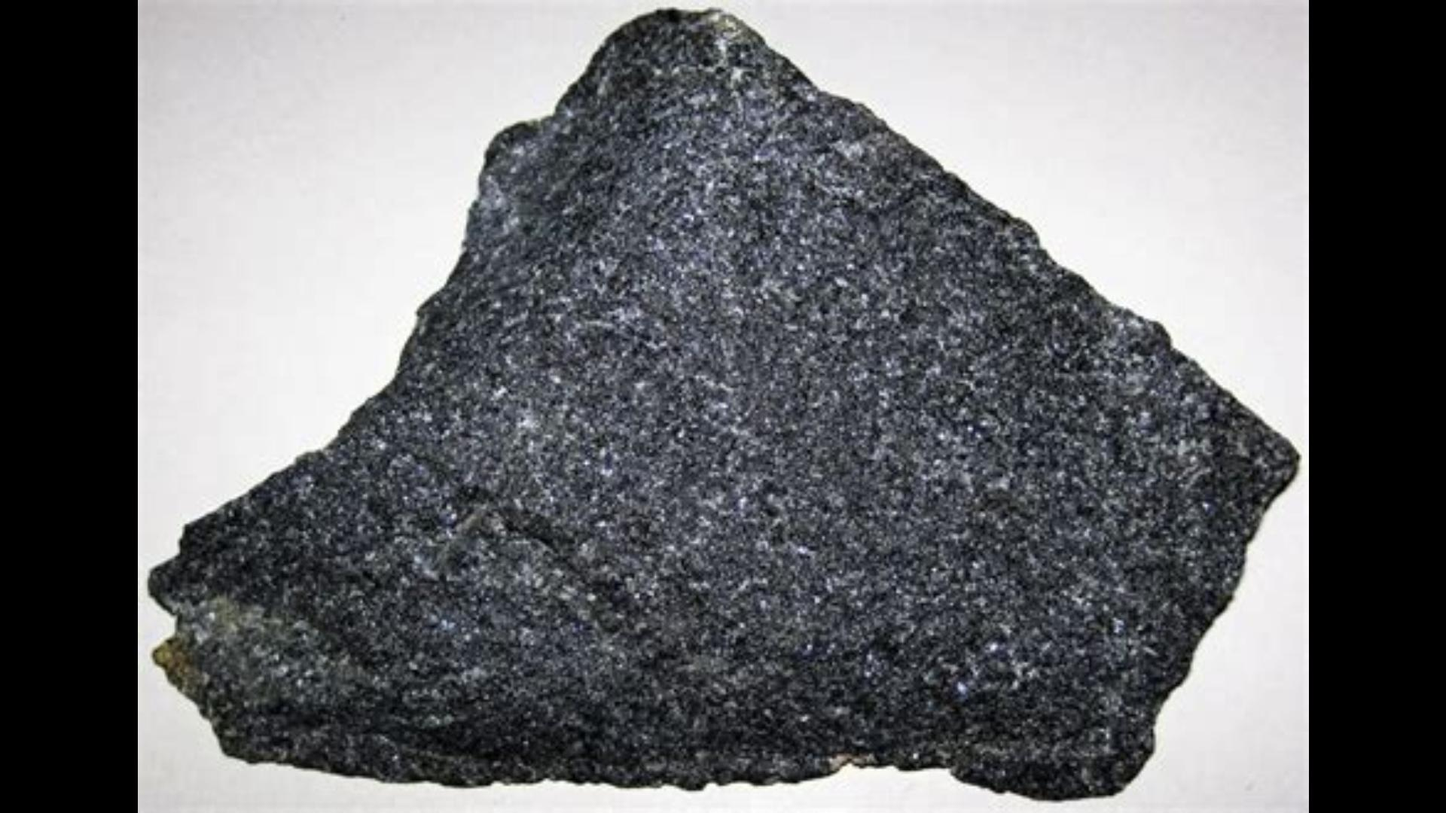rock: (149, 10, 1294, 796)
